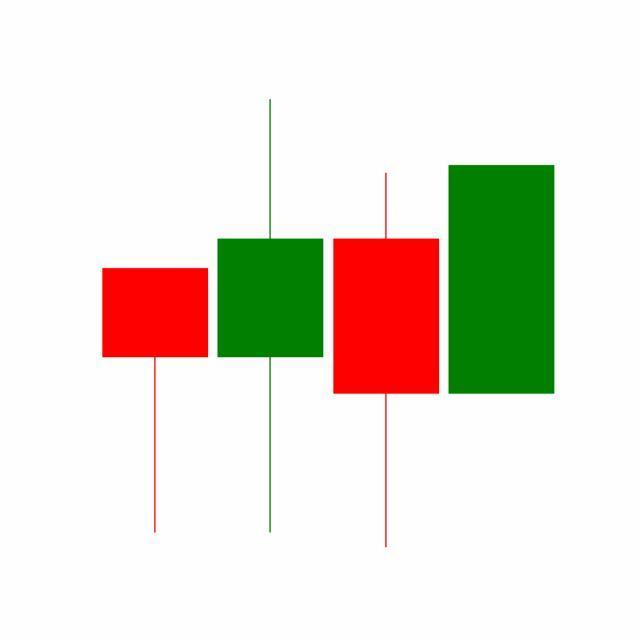Marubozu: (444, 163, 560, 396)
